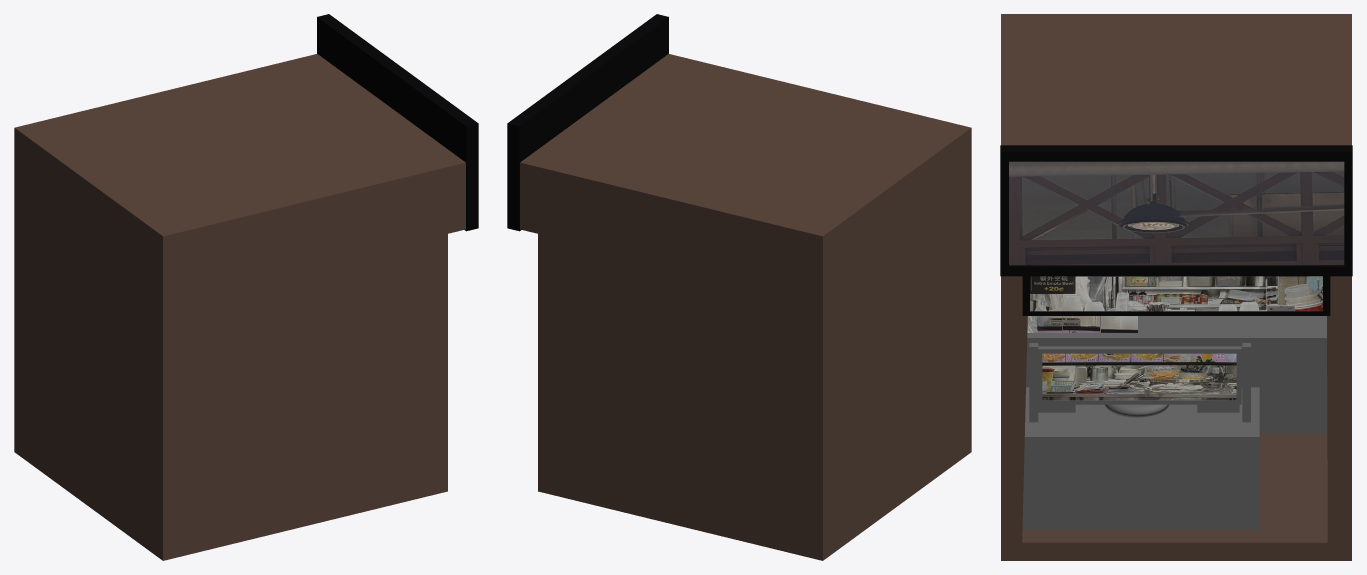
File: 88 SanRen Cold.fbx
3 renders of one model, left to right at view 1: azimuth 30°, elevation 25°; view 2: azimuth 150°, elevation 25°; view 3: azimuth 270°, elevation 25°, orthographic. The views are drawn at different scales.
Parts seen in each view (by area): view 1: MainStructure, TitleBackGround; view 2: MainStructure, TitleBackGround; view 3: MainStructure, Title.001, 立方体.001, 立方体, TitleBackGround, Title.002, Title.003, TitleBackGround.002, TitleBackGround.001, 立方体.003, 柱体, 立方体.002 (+3 smaller).
Boxes of the visible parts, x1,y1,x2,y2 form: MainStructure: (14, 54, 465, 560); TitleBackGround: (317, 14, 478, 231); MainStructure: (520, 54, 971, 560); TitleBackGround: (507, 14, 668, 231); MainStructure: (1001, 14, 1351, 560); Title.001: (1009, 161, 1344, 265); 立方体.001: (1022, 387, 1259, 530); 立方体: (1026, 316, 1327, 433); TitleBackGround: (1000, 145, 1352, 276); Title.002: (1030, 276, 1322, 311); Title.003: (1042, 353, 1236, 400); TitleBackGround.002: (1038, 346, 1241, 404); TitleBackGround.001: (1022, 276, 1330, 315); 立方体.003: (1029, 343, 1038, 422); 柱体: (1104, 404, 1168, 417); 立方体.002: (1242, 343, 1250, 422).
Bounding box in the file's own units: 4.93 × 5.42 × 4.05.
